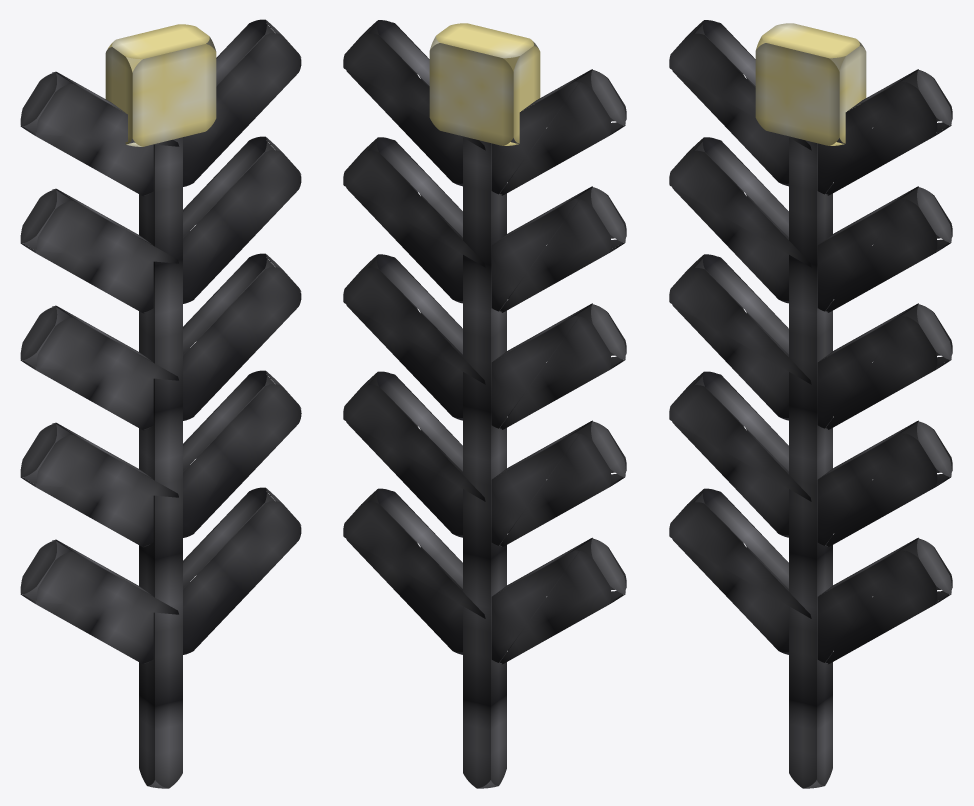
File: seraph_feather.obj
3 views of the same model, side by side, from view 1: azimuth 30°, elevation 25°; view 2: azimuth 150°, elevation 25°; view 3: azimuth 330°, elevation 25° (orthographic).
Visible parts, largest first — view 1: lit, fire; view 2: lit, fire; view 3: lit, fire.
Part boxes in pixels (<box>): lit: <box>20,19,301,788</box>; fire: <box>105,24,216,146</box>; lit: <box>343,20,626,788</box>; fire: <box>429,23,540,145</box>; lit: <box>669,20,952,788</box>; fire: <box>755,23,866,145</box>.
Bounding box in the file's own units: 0.3757 × 0.95 × 0.0625.
